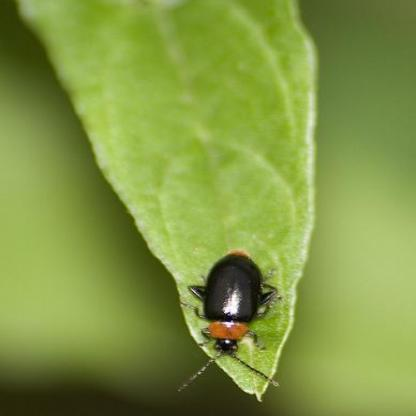beetle: (175, 235, 291, 408)
